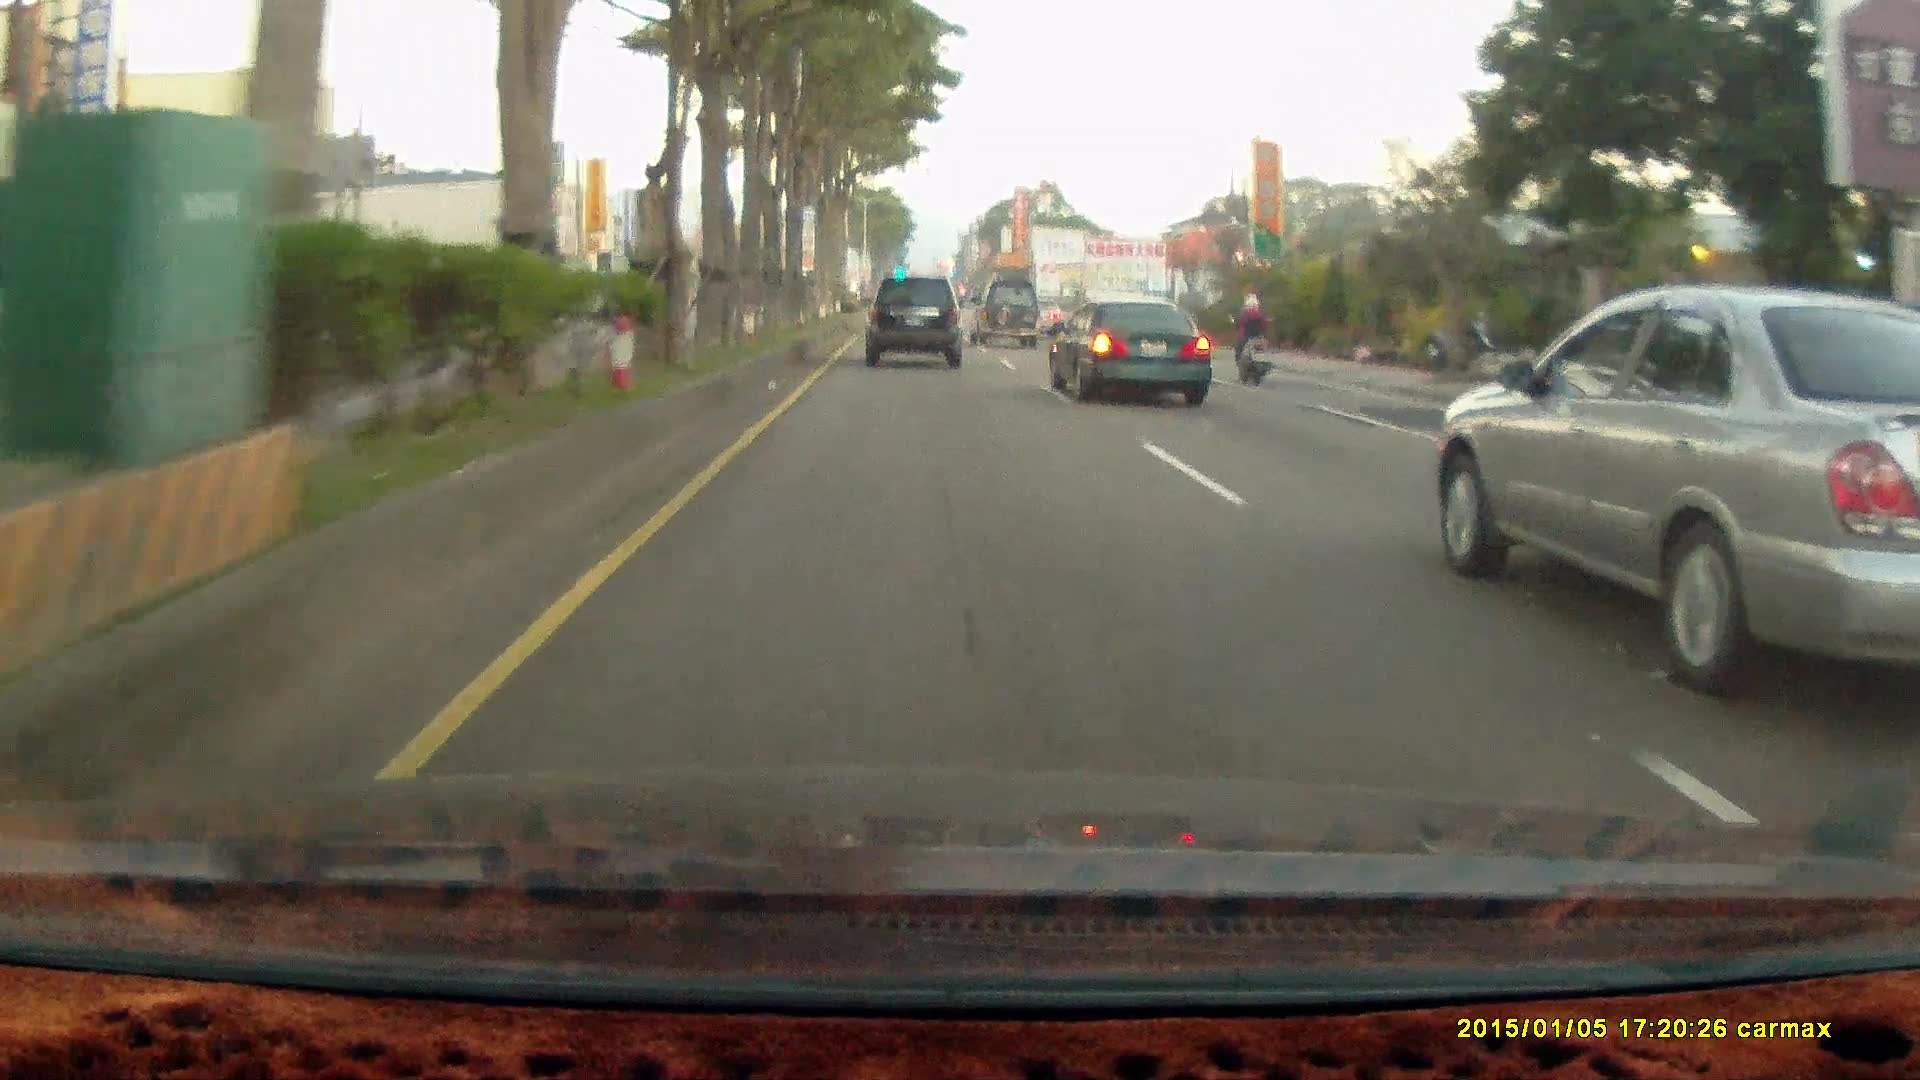rider: (1220, 283, 1283, 395), (1225, 288, 1275, 385)
vehicle: (1435, 295, 1916, 710), (1048, 295, 1217, 410), (1046, 295, 1211, 405), (863, 272, 970, 372), (860, 276, 960, 368), (970, 280, 1044, 349), (969, 280, 1039, 347)
